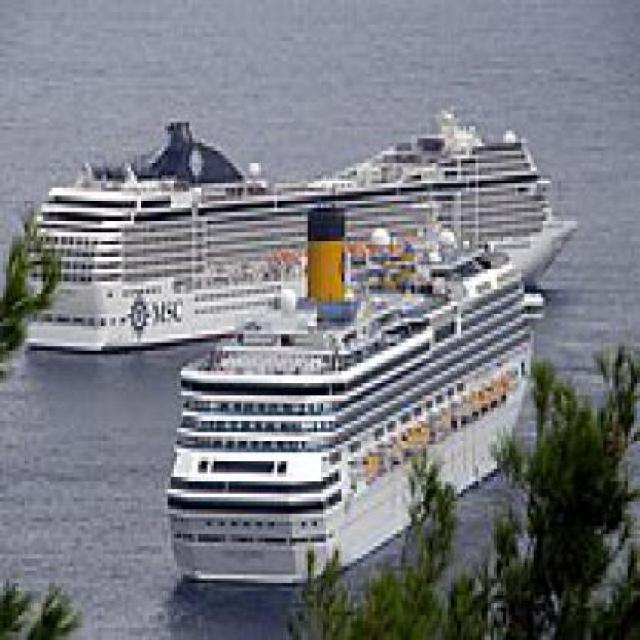cruise: (157, 221, 560, 596)
